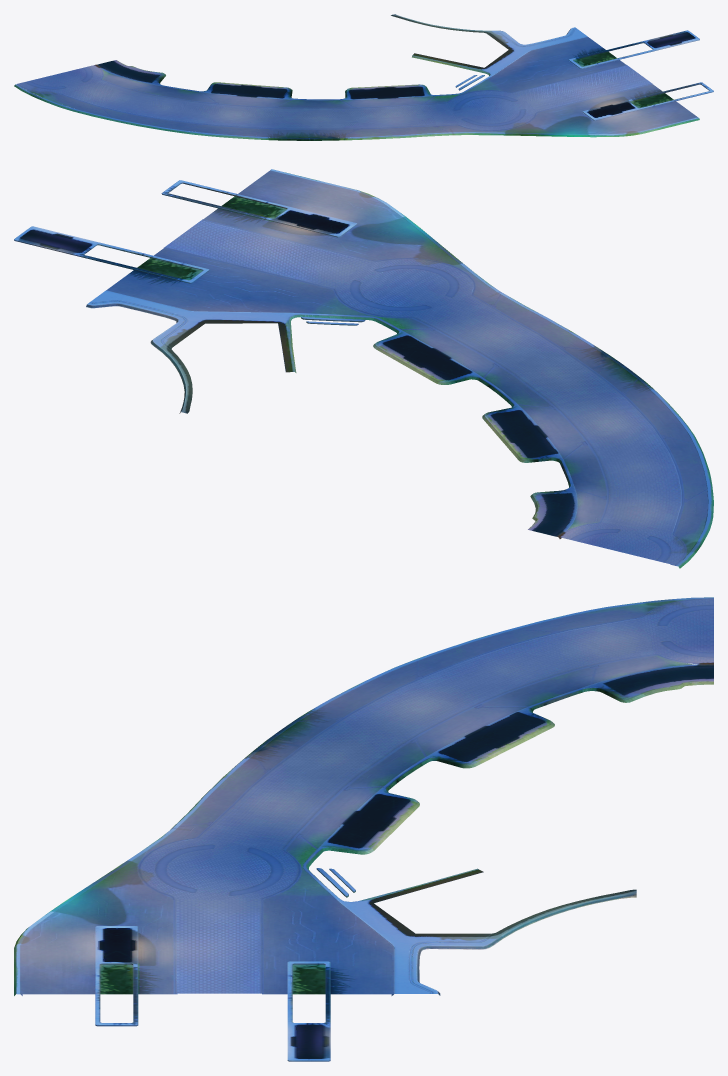
The model's file is pref_sm_beach_techsmall_WSJ_001_bk_main_road04_lv2.fbx.
The picture shows the model from 3 angles, top to bottom: view 1: azimuth 30°, elevation 25°; view 2: azimuth 150°, elevation 25°; view 3: azimuth 270°, elevation 25°; orthographic projection. The views are drawn at different scales.
Parts seen in each view (by area): view 1: pref_sm_beach_techsmall_WSJ_001_bk_main_road04_lv2; view 2: pref_sm_beach_techsmall_WSJ_001_bk_main_road04_lv2; view 3: pref_sm_beach_techsmall_WSJ_001_bk_main_road04_lv2.
Boxes of the visible parts, x1,y1,x2,y2 form: pref_sm_beach_techsmall_WSJ_001_bk_main_road04_lv2: [14, 14, 713, 140]; pref_sm_beach_techsmall_WSJ_001_bk_main_road04_lv2: [14, 169, 713, 568]; pref_sm_beach_techsmall_WSJ_001_bk_main_road04_lv2: [14, 597, 713, 1061].
Size of the model in its own units: 55.5 by 0.2236 by 35.31.
